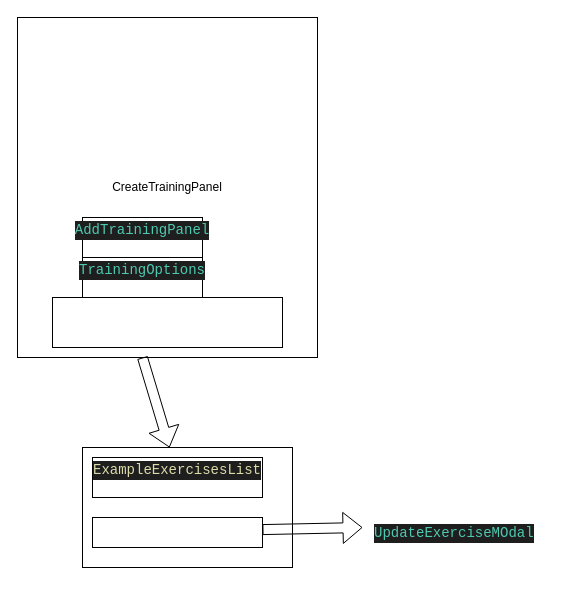
Some shapes in this 570 by 605 pixel diagram are drawn without their labels. Here are the shapes that lost their labels. From the top down, the centre of each, then its label:
At point (167, 322): "AddExerciseTemplatePanel".
At point (177, 532): "ExerciseTemplatePanel".
